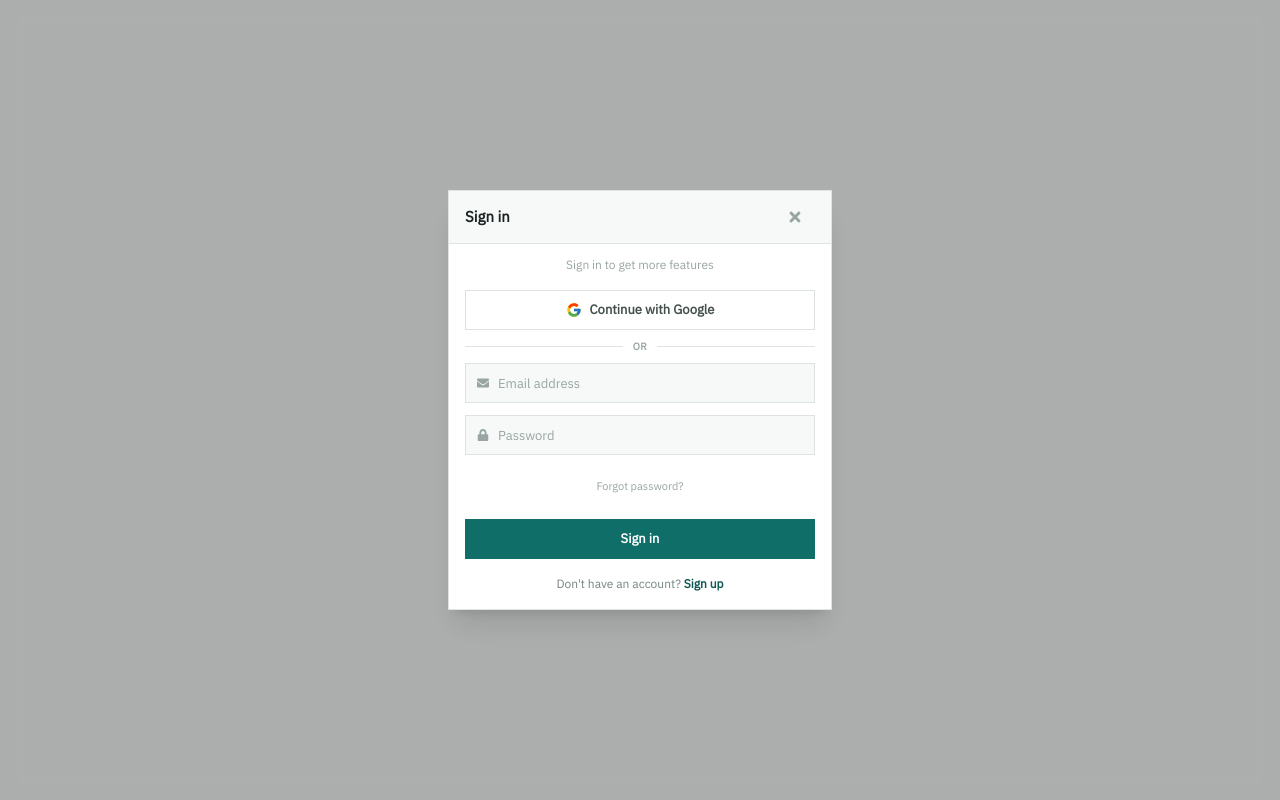
Test case: AuthModal › shows password validation error for weak password on register
Step 1. Click the button "Sign up" → (704, 584), box [684,575,724,593]
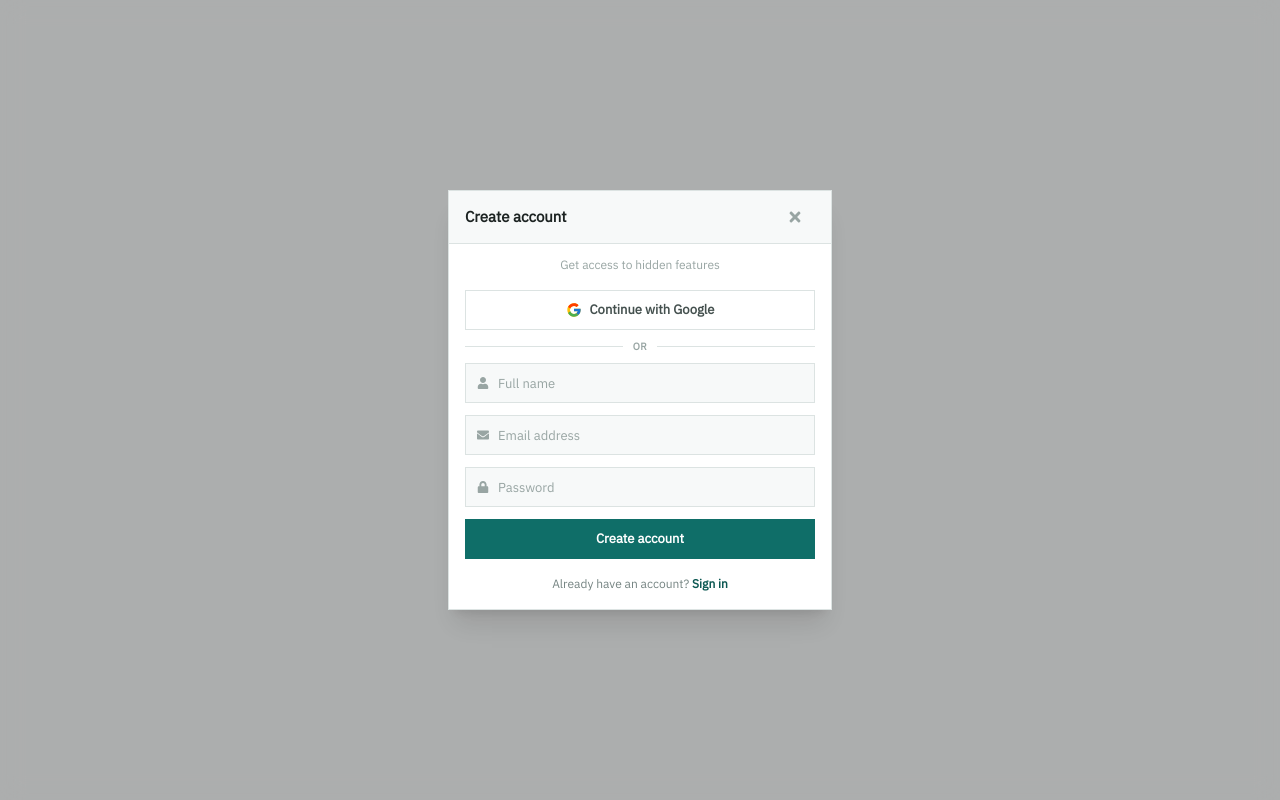
Step 2. Type "Test" into the field with placeholder "Full name" → (640, 383), box [465,363,815,403]
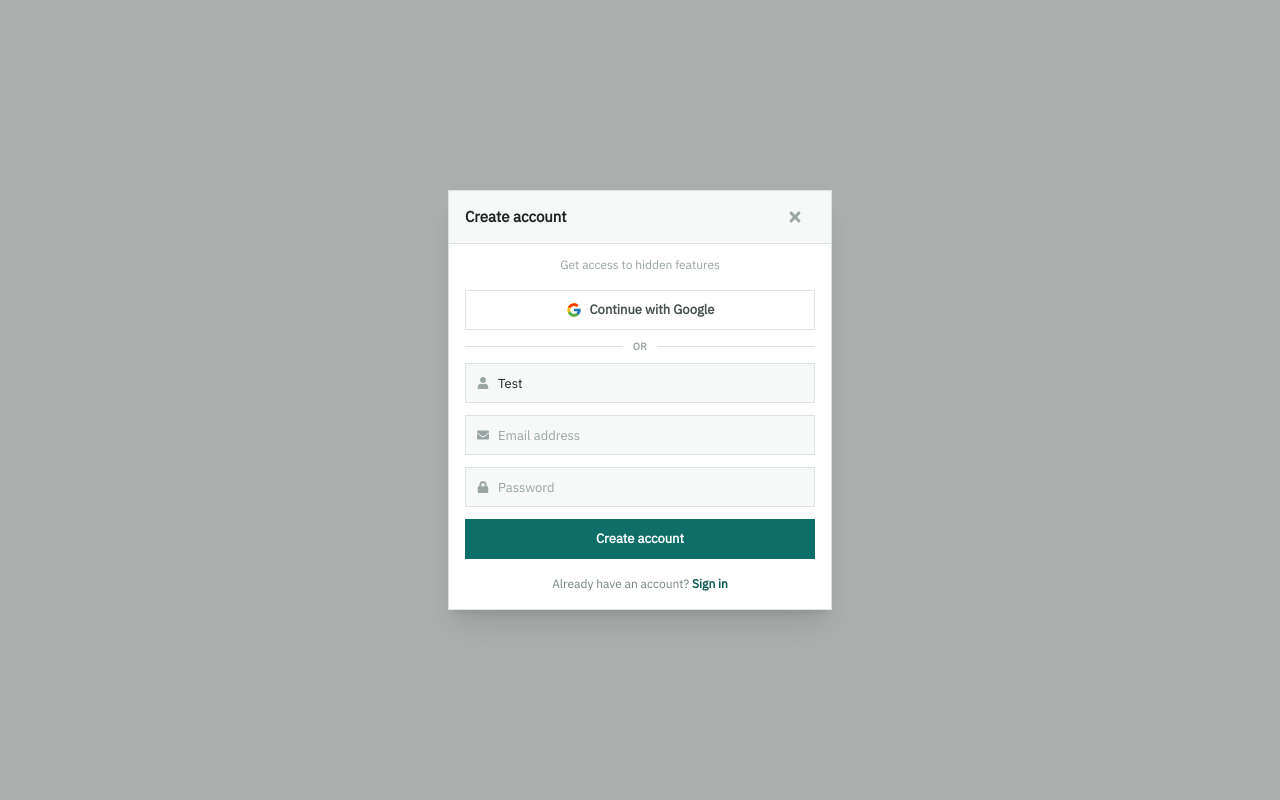
Step 3. Type "test@test.com" into the field with placeholder "Email address" → (640, 435), box [465,415,815,455]
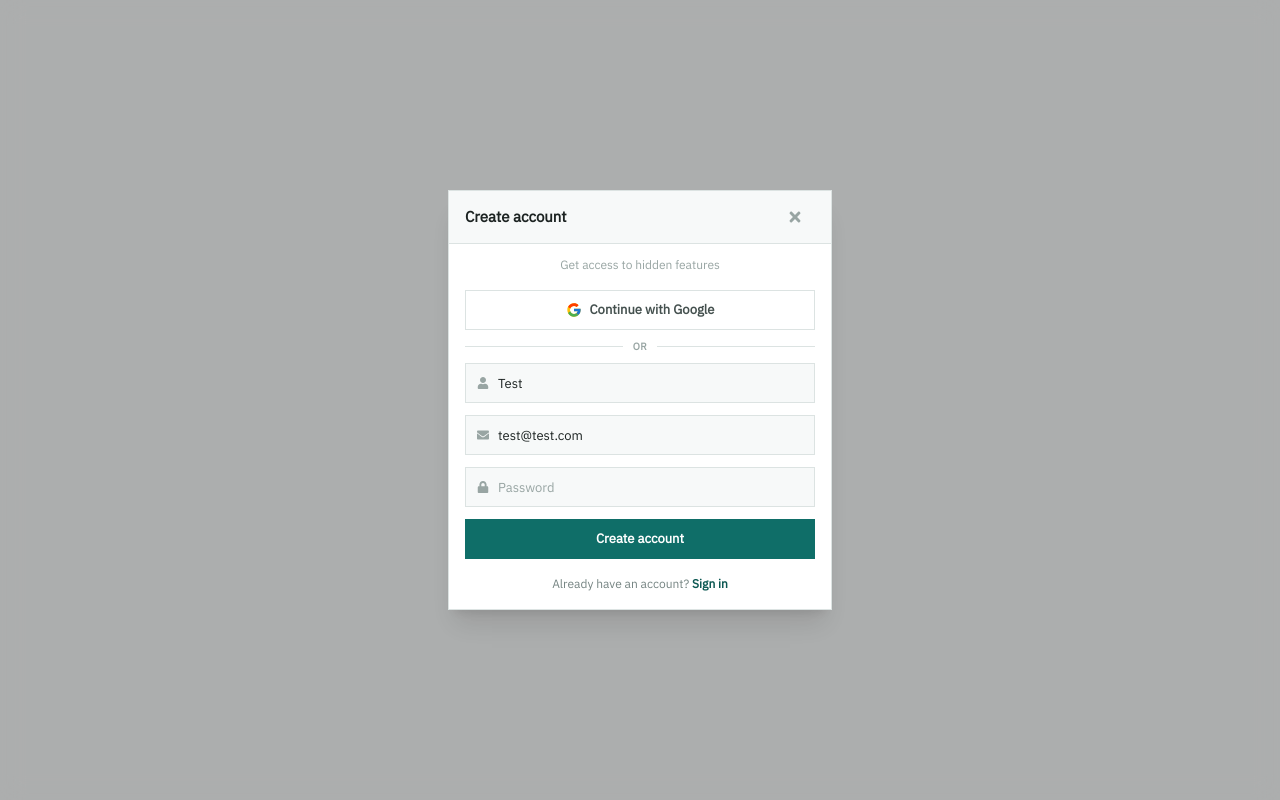
Step 4. Type "weak" into the password field with placeholder "Password" → (640, 487), box [465,467,815,507]
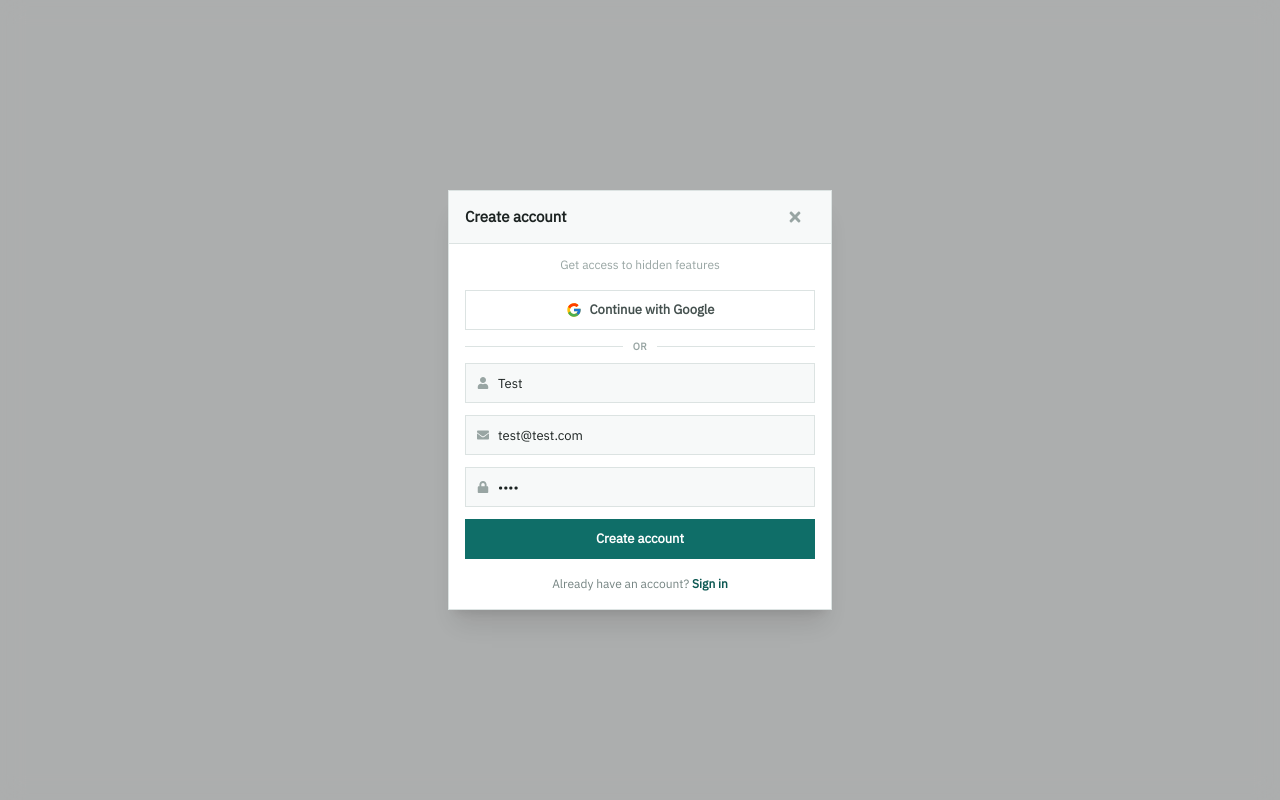
Step 5. Click the button "Create account" → (640, 539), box [465,519,815,559]
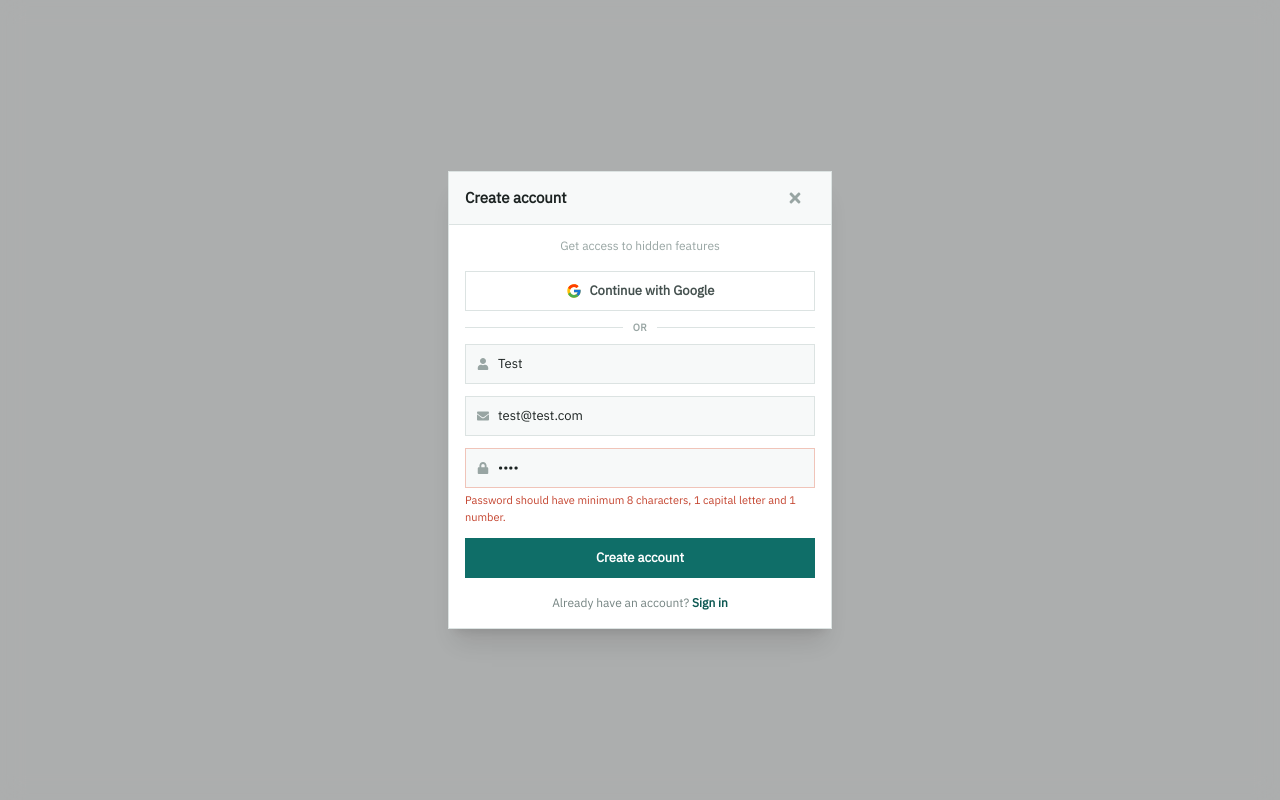
Check: the text "Password should have minimum 8 characters, 1 capital letter and 1 number." is shown, box [465,492,815,526]
